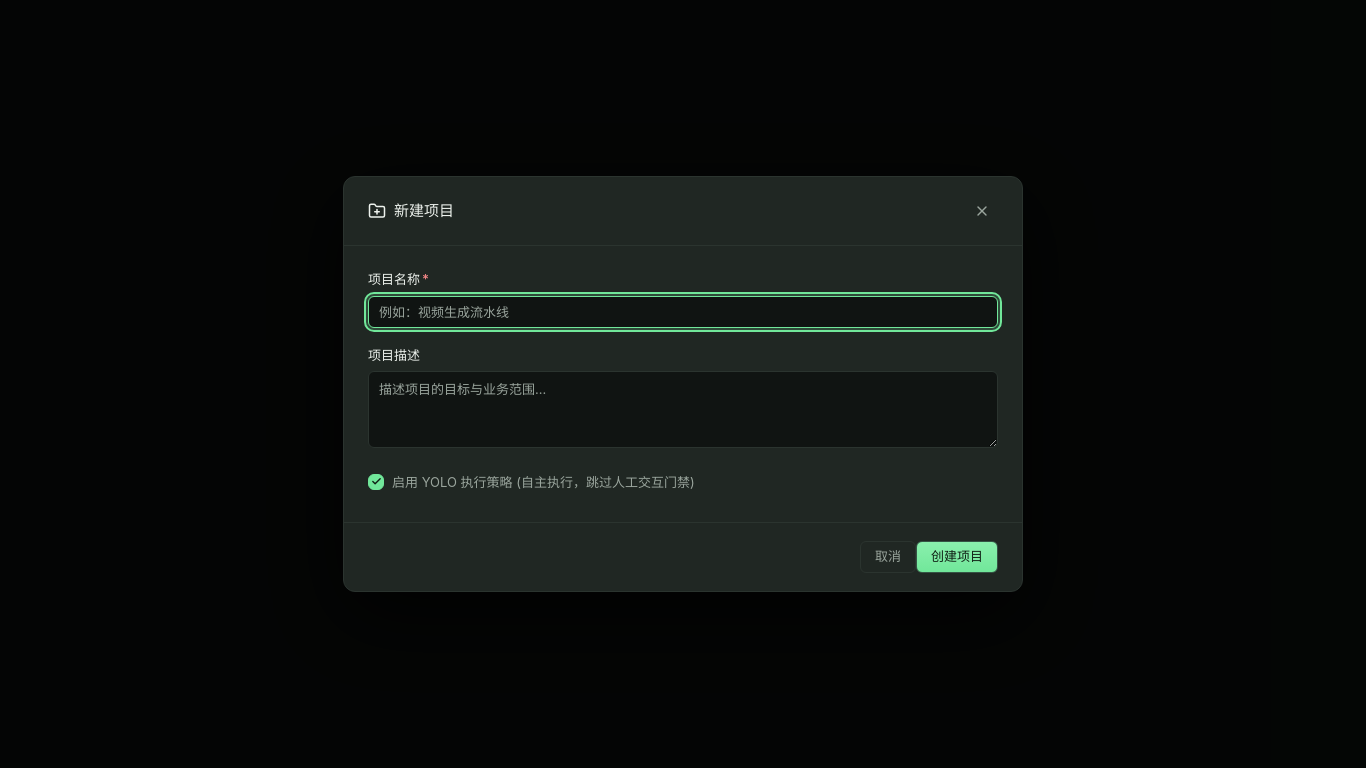
Test: CreateProjectModal › validates required title
The width and height of the screenshot is (1366, 768).
Click the button "创建项目".
click(957, 557)  # box [916,541,998,573]
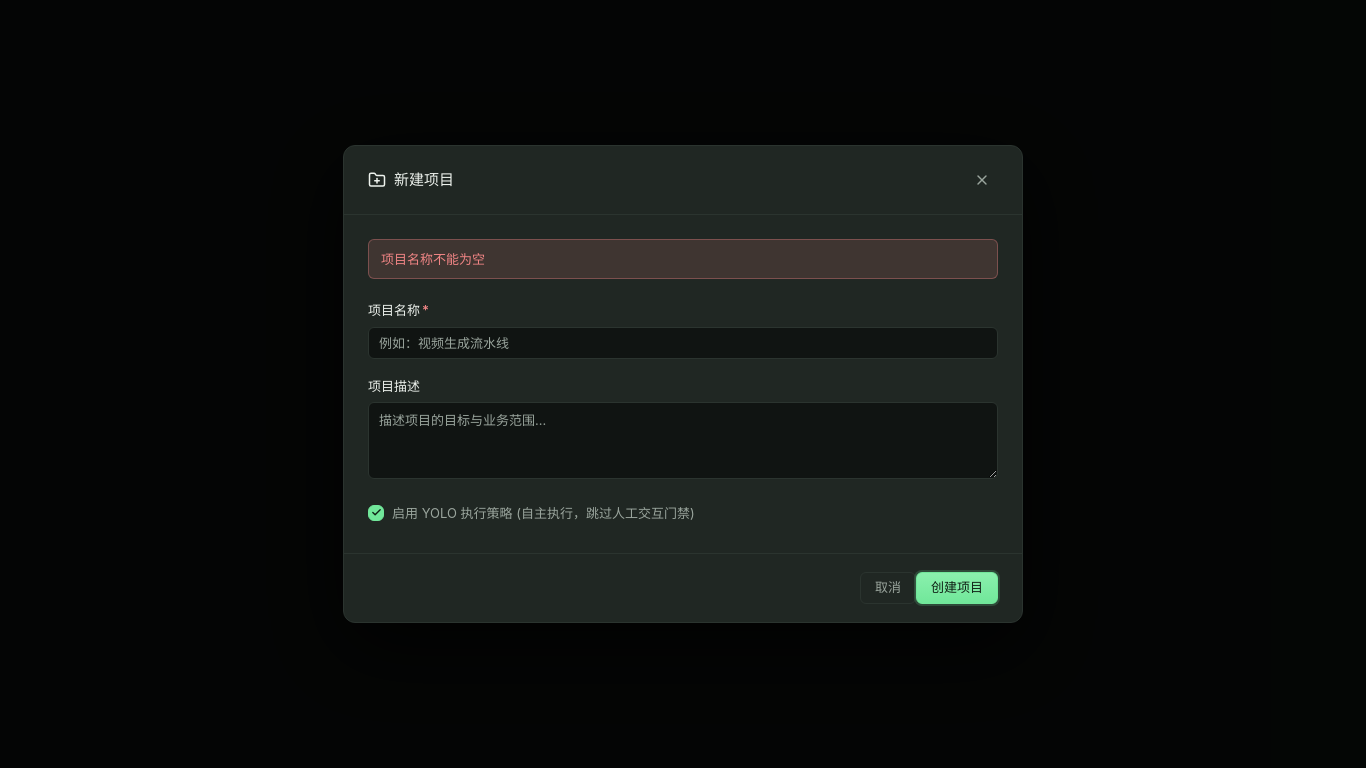
Check: the text "项目名称不能为空" is shown, box [381,251,485,267]
